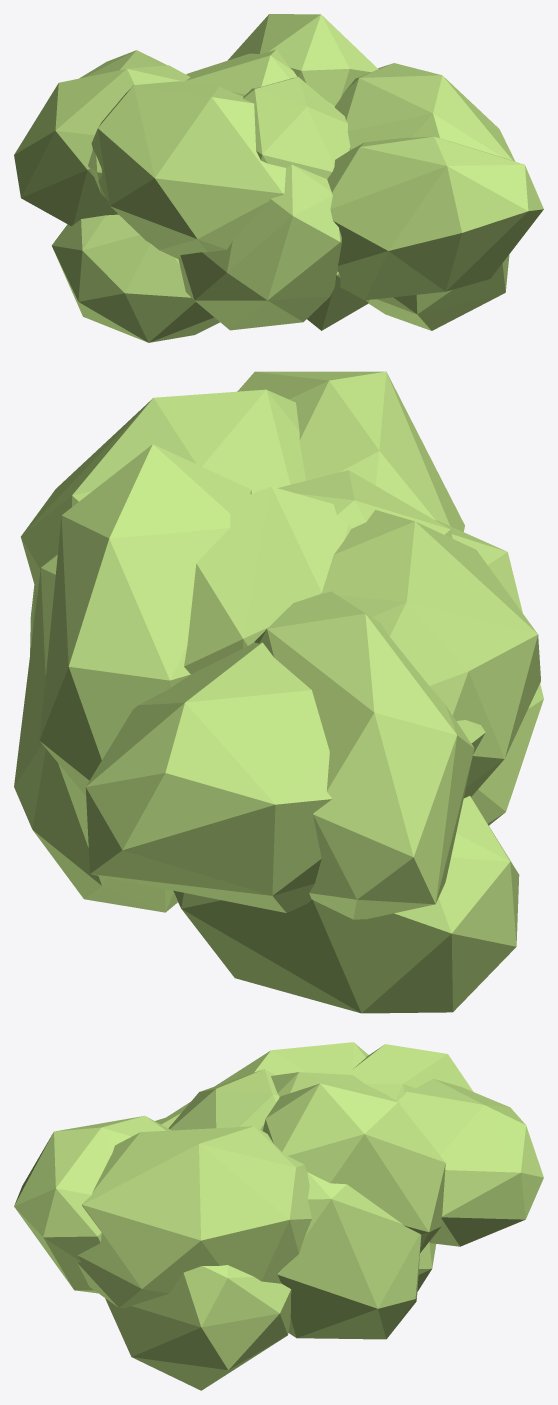
File: EvilCloud.fbx
3 views of the same model, one above another, from view 1: azimuth 30°, elevation 25°; view 2: azimuth 150°, elevation 25°; view 3: azimuth 270°, elevation 25° (orthographic). The views are drawn at different scales.
Visible parts, largest first — view 1: Icosphere.004; view 2: Icosphere.004; view 3: Icosphere.004.
Boxes of the visible parts, <box> form: Icosphere.004: <box>14,14,543,342</box>; Icosphere.004: <box>14,371,543,1013</box>; Icosphere.004: <box>14,1042,543,1390</box>.
Size of the model in its own units: 437 by 336 by 546.
